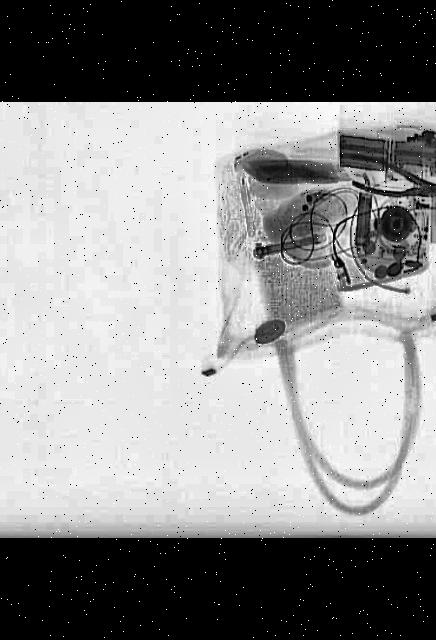Pliers: (338, 154, 436, 211)
